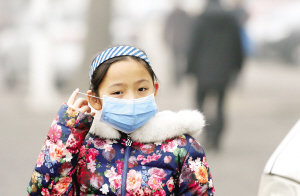face_mask: (101, 60, 153, 128)
